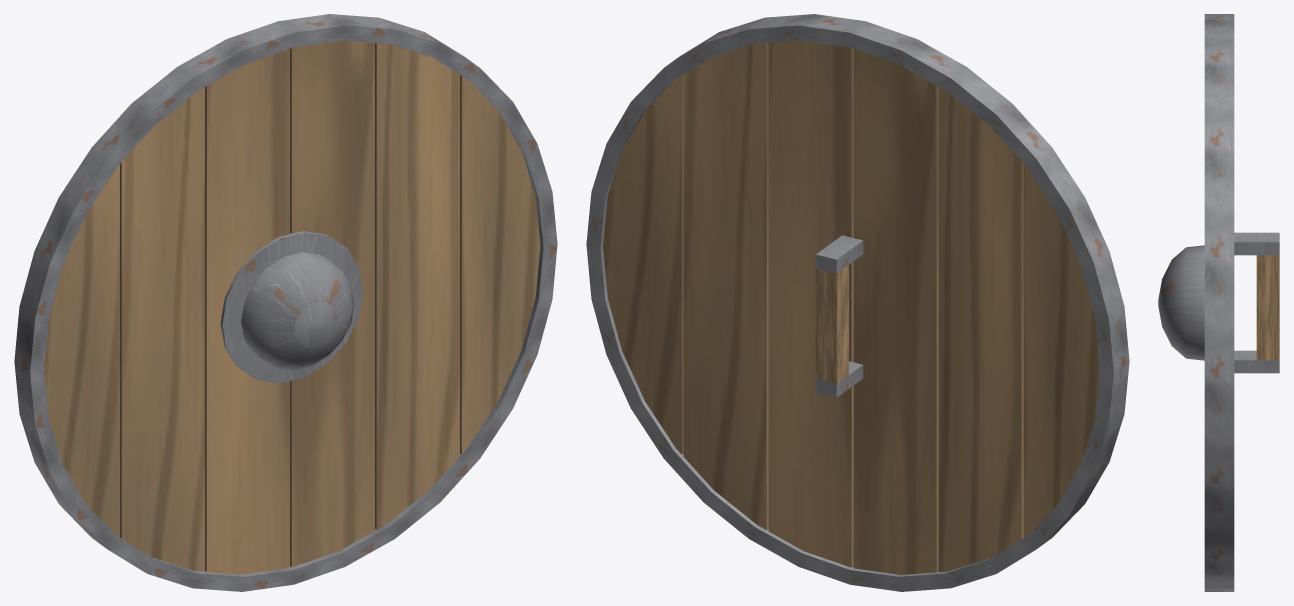
The model's file is shield_round.glb.
3 views of the same model, side by side, from view 1: azimuth 30°, elevation 25°; view 2: azimuth 150°, elevation 25°; view 3: azimuth 270°, elevation 25° (orthographic). The views are drawn at different scales.
Visible parts, largest first — view 1: OUT; view 2: OUT; view 3: OUT.
Boxes of the visible parts, x1=… form: OUT: x1=14, y1=14, x2=557, y2=591; OUT: x1=586, y1=14, x2=1129, y2=591; OUT: x1=1158, y1=14, x2=1279, y2=591.
Size of the model in its own units: 0.6 by 0.6 by 0.126.
2 materials, 2 textured.
